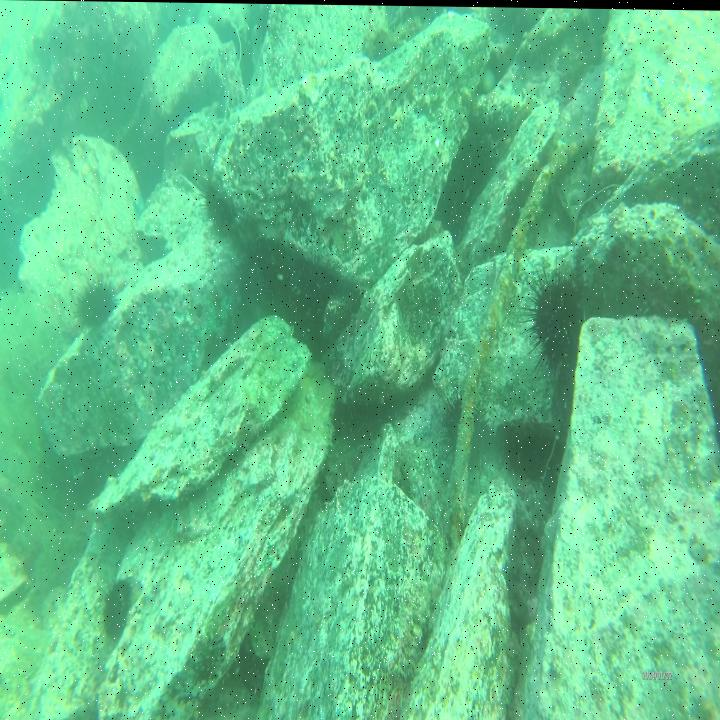echinus: (521, 253, 590, 382), (98, 574, 134, 649), (76, 276, 120, 337), (197, 178, 237, 240)
